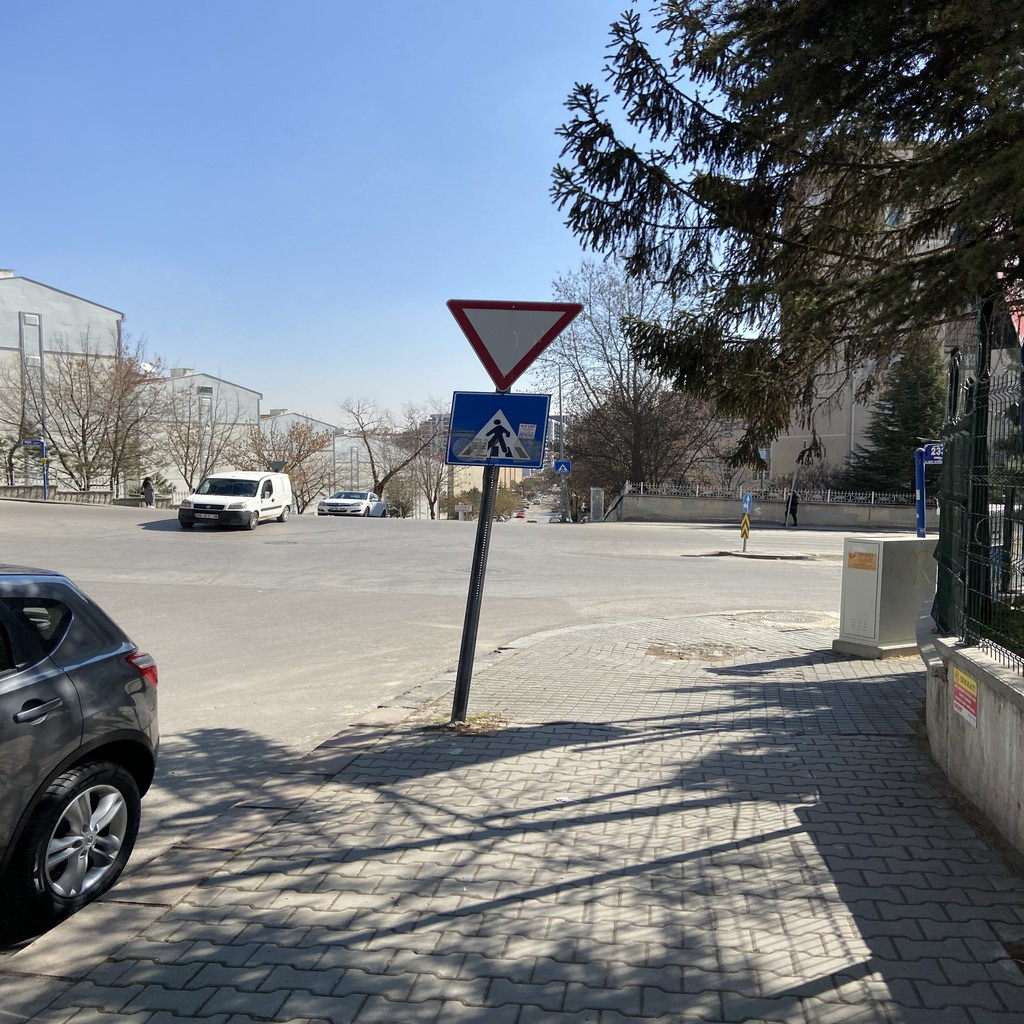Yaya Gecidi: (443, 392, 552, 467)
Yol Ver: (452, 296, 595, 387)
